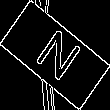N_SW: (27, 23, 83, 87)
